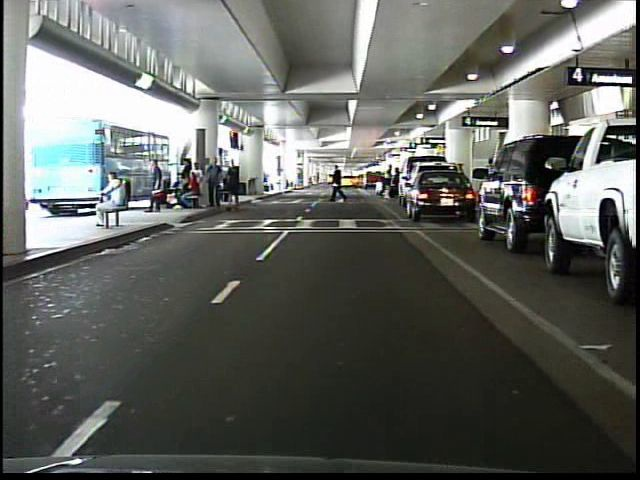person: (82, 165, 129, 232), (141, 154, 166, 216), (329, 162, 350, 207), (378, 161, 394, 198)
